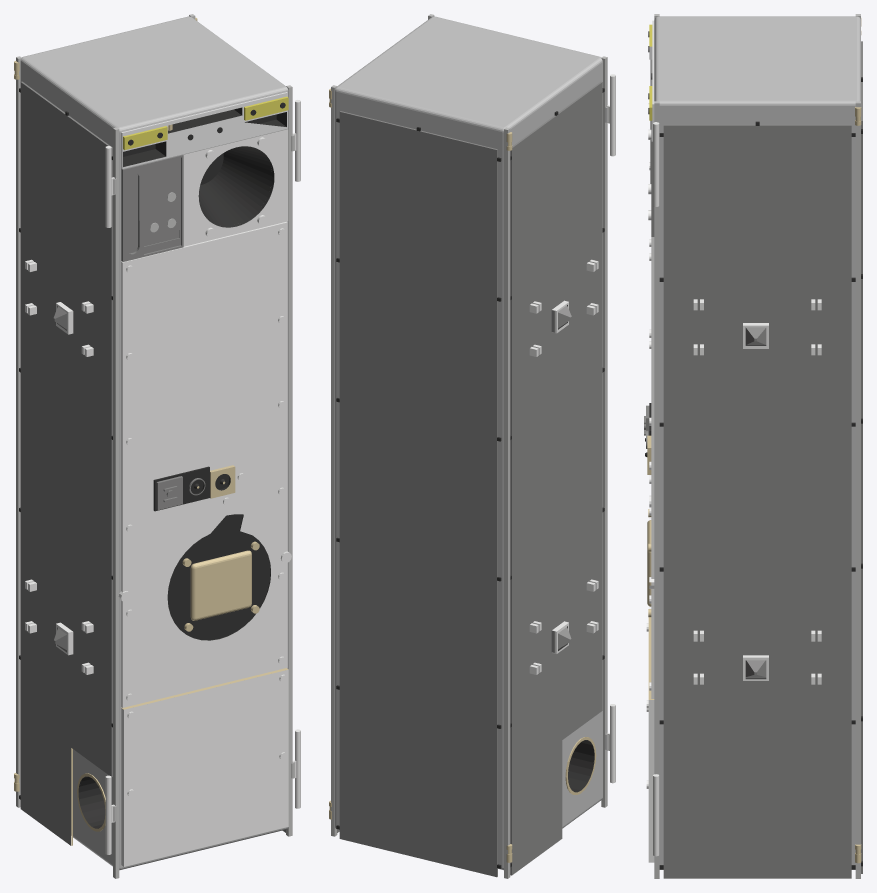
File: Satellite Kit body 3.glb
3 views of the same model, side by side, from view 1: azimuth 30°, elevation 25°; view 2: azimuth 150°, elevation 25°; view 3: azimuth 270°, elevation 25° (orthographic). The views are drawn at different scales.
Parts seen in each view (by area): view 1: Layer_0, Layer_3, Layer_5, Layer_2; view 2: Layer_0, Layer_3, Layer_2; view 3: Layer_0, Layer_5, Layer_4.
Part boxes in pixels (x1,y1,x2,y2): Layer_0: (14, 14, 292, 878); Layer_3: (25, 146, 114, 854); Layer_5: (292, 100, 300, 808); Layer_2: (14, 71, 116, 821); Layer_0: (329, 14, 607, 878); Layer_3: (529, 74, 615, 783); Layer_2: (508, 107, 608, 854); Layer_0: (644, 14, 862, 878); Layer_5: (653, 122, 821, 856); Layer_4: (743, 117, 860, 854).
Size of the model in its own units: 2.34 by 8.29 by 2.12.
